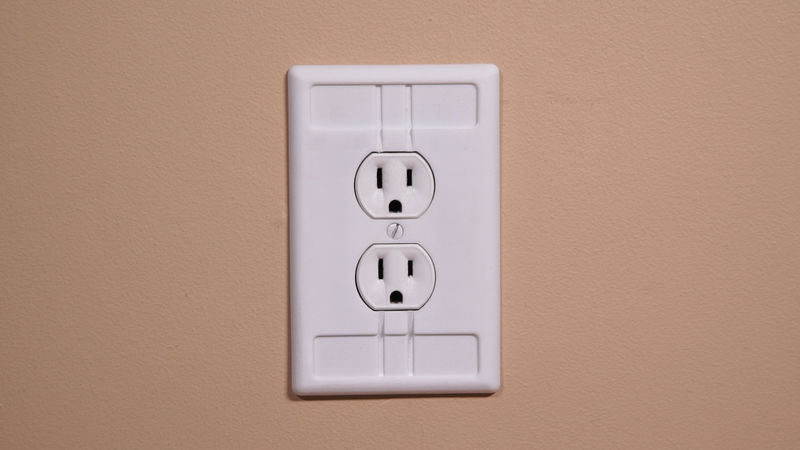outlet: (365, 247, 432, 316), (362, 163, 434, 218)
